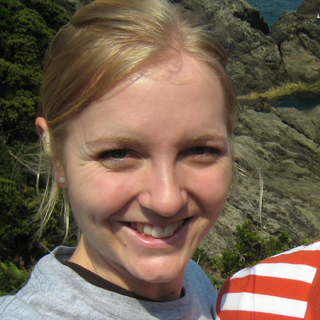eye: (90, 142, 144, 165), (176, 142, 223, 163)
